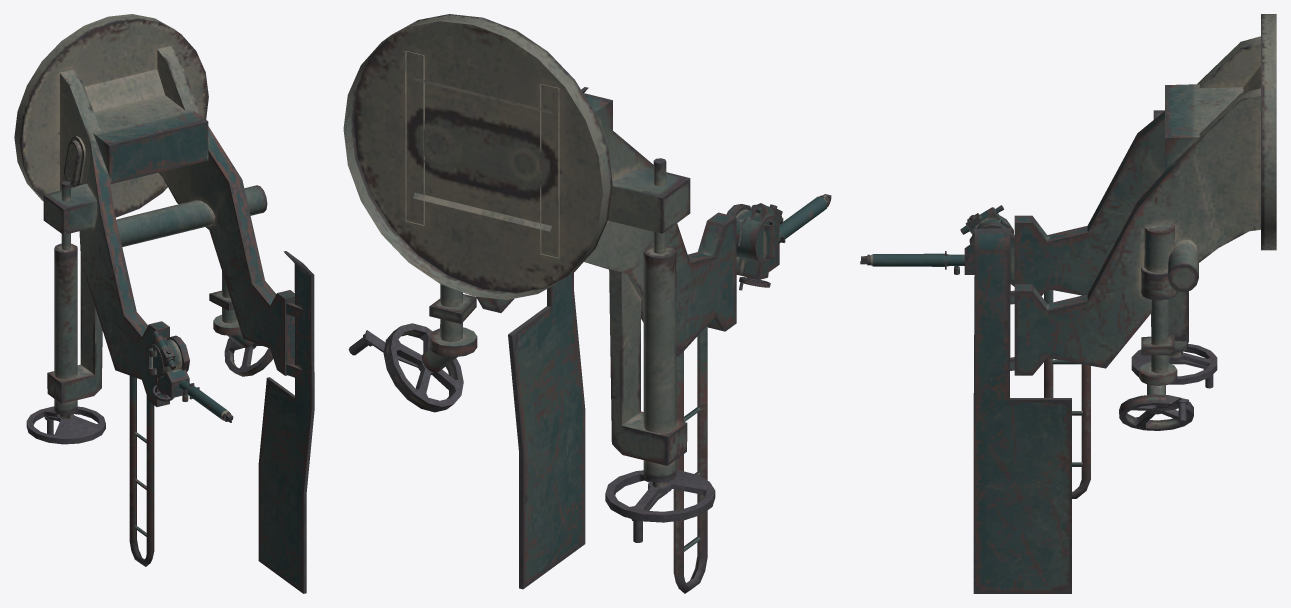
Rendered from Turret_01.glb.
3 views of the same model, side by side, from view 1: azimuth 30°, elevation 25°; view 2: azimuth 150°, elevation 25°; view 3: azimuth 270°, elevation 25° (orthographic). The views are drawn at different scales.
Visible parts, largest first — view 1: set_0_group_0; view 2: set_0_group_0; view 3: set_0_group_0.
Boxes of the visible parts, x1=… form: set_0_group_0: x1=14, y1=14, x2=314, y2=593; set_0_group_0: x1=343, y1=14, x2=831, y2=593; set_0_group_0: x1=860, y1=14, x2=1276, y2=593.
Size of the model in its own units: 0.8185 by 1.51 by 1.06.
Materials: 1 (1 with a texture image).
